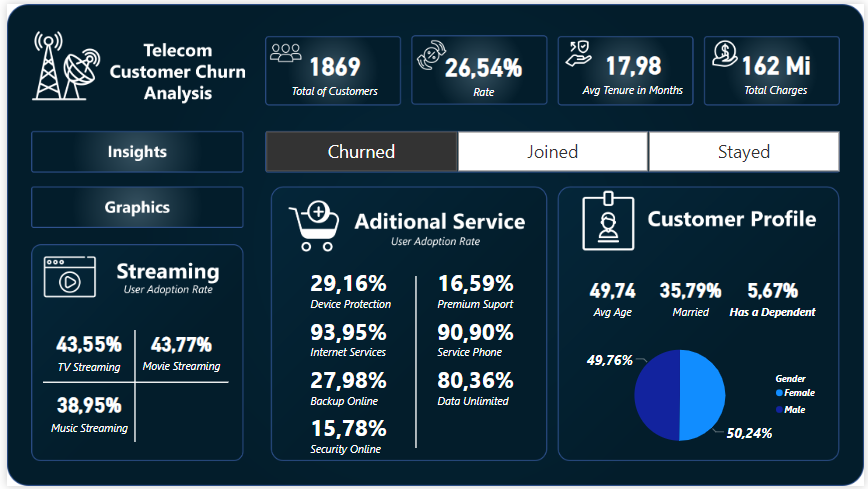

The page's visual inventory and layout, read from the dashboard file:
{"tool":"powerbi","page":{"name":"Página 1","canvas":[1280,720],"ordinal":0},"visuals":[{"type":"pieChart","fields":{"Category":["telecom_customer_churn.Gender"],"Y":["telecom_customer_churn.Total_Customers"]},"box":[856.7,488.3,363.3,191.7],"z":0},{"type":"card","fields":{"Values":["telecom_customer_churn.Married_Churned"]},"box":[968.3,390,103.3,91.7],"z":1000},{"type":"card","fields":{"Values":["telecom_customer_churn.Dependents_Churned"]},"box":[1071.7,390,141.7,91.7],"z":2000},{"type":"card","fields":{"Values":["telecom_customer_churn.Customer_Avg_Age"]},"box":[851.7,390,103.3,91.7],"z":3000},{"type":"multiRowCard","fields":{"Values":["telecom_customer_churn.Device_Protection","telecom_customer_churn.Internet_Services","telecom_customer_churn.Backup_Online","telecom_customer_churn.Security_Online"]},"box":[448.3,388.3,163.3,293.3],"z":4000},{"type":"card","fields":{"Values":["telecom_customer_churn.Total_Customers"]},"box":[406,55.2,165.7,91],"z":5000},{"type":"card","fields":{"Values":["Sum(telecom_customer_churn.Total Charges)"]},"box":[1063.3,53.3,168.3,91.7],"z":6000},{"type":"card","fields":{"Values":["telecom_customer_churn.Percentage_Selected_Status"]},"box":[611.9,56.7,198.5,91],"z":7000},{"type":"card","fields":{"Values":["telecom_customer_churn.Avg_Tenure_Months"]},"box":[843.3,53.3,181.7,91.7],"z":8000},{"type":"slicer","fields":{"Values":["telecom_customer_churn.Customer Status"]},"box":[361.7,183.3,905,73.3],"z":9000},{"type":"multiRowCard","fields":{"Values":["telecom_customer_churn.Premium_Tech_Suport","telecom_customer_churn.Service_Phone","telecom_customer_churn.Data_Unlimited"]},"box":[636.7,388.3,133.3,300],"z":10000},{"type":"card","fields":{"Values":["telecom_customer_churn.Music_Streaming"]},"box":[53.3,561.7,138.3,91.7],"z":11000},{"type":"card","fields":{"Values":["telecom_customer_churn.Movie_Streaming"]},"box":[191.7,470,138.3,91.7],"z":12000},{"type":"card","fields":{"Values":["telecom_customer_churn.TV_Streaming"]},"box":[30,470,185,91.7],"z":13000},{"type":"shape","box":[53.3,490,276.7,150],"z":14000},{"type":"shape","box":[98.3,486.7,185,166.7],"z":15000},{"type":"shape","box":[518.3,406.7,185,256.7],"z":16000},{"type":"actionButton","box":[33.3,183.3,318.3,73.3],"z":17000},{"type":"actionButton","box":[33.3,271.7,318.3,61.7],"z":18000}]}

Visuals, with their boxes in screenshot pixels (x1, y1, x2, y2), scaled from the page's 1280x720 canvas onto the 868x489 screenshot:
pieChart - telecom_customer_churn.Gender x telecom_customer_churn.Total_Customers: box(581, 332, 827, 462)
card - telecom_customer_churn.Married_Churned: box(657, 265, 727, 327)
card - telecom_customer_churn.Dependents_Churned: box(727, 265, 823, 327)
card - telecom_customer_churn.Customer_Avg_Age: box(578, 265, 648, 327)
multiRowCard - telecom_customer_churn.Device_Protection x telecom_customer_churn.Internet_Services: box(304, 264, 415, 463)
card - telecom_customer_churn.Total_Customers: box(275, 37, 388, 99)
card - Sum(telecom_customer_churn.Total Charges): box(721, 36, 835, 98)
card - telecom_customer_churn.Percentage_Selected_Status: box(415, 39, 550, 100)
card - telecom_customer_churn.Avg_Tenure_Months: box(572, 36, 695, 98)
slicer - telecom_customer_churn.Customer Status: box(245, 124, 859, 174)
multiRowCard - telecom_customer_churn.Premium_Tech_Suport x telecom_customer_churn.Service_Phone: box(432, 264, 522, 467)
card - telecom_customer_churn.Music_Streaming: box(36, 381, 130, 444)
card - telecom_customer_churn.Movie_Streaming: box(130, 319, 224, 381)
card - telecom_customer_churn.TV_Streaming: box(20, 319, 146, 381)
shape: box(36, 333, 224, 435)
shape: box(67, 331, 192, 444)
shape: box(351, 276, 477, 451)
actionButton: box(23, 124, 238, 174)
actionButton: box(23, 185, 238, 226)
